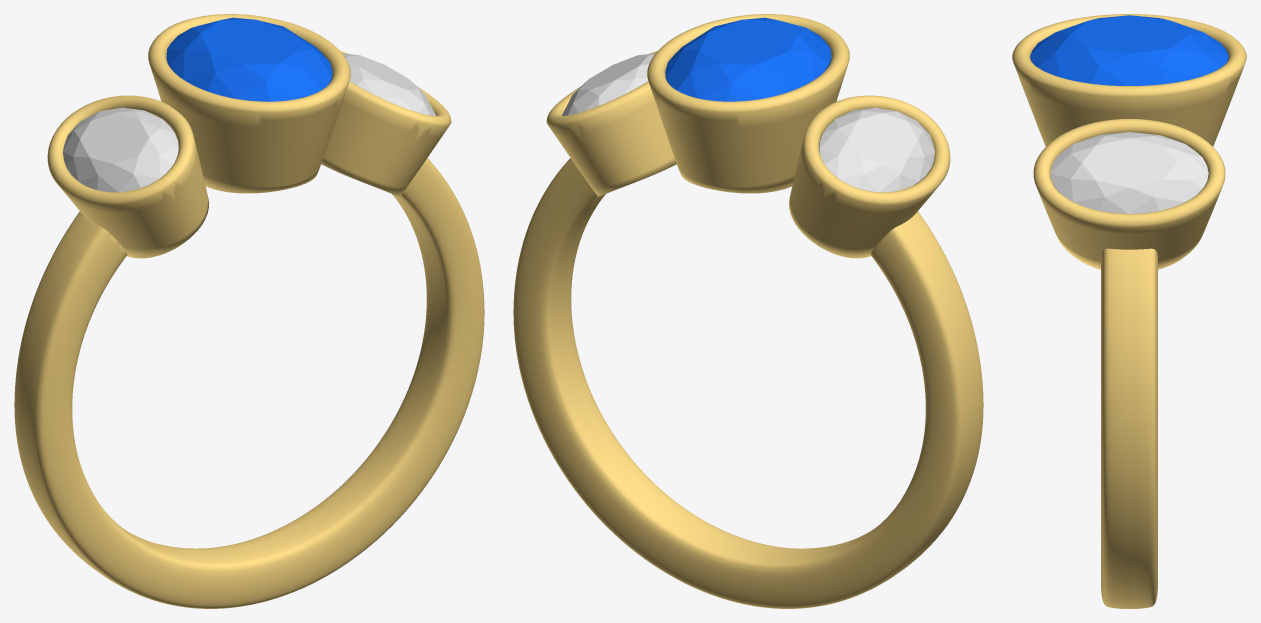
File: bluesapphire-oval-yellowgold-bezelset-straightband-3stone.glb
3 views of the same model, side by side, from view 1: azimuth 30°, elevation 25°; view 2: azimuth 150°, elevation 25°; view 3: azimuth 270°, elevation 25° (orthographic).
Visible parts, largest first — view 1: metal, stone.002, side.004, side.005; view 2: metal, stone.002, side.004, side.005; view 3: metal, stone.002, side.005.
Part boxes in pixels (left/top/right/bottom): metal: left=14, top=14, right=484, bottom=608; stone.002: left=166, top=17, right=332, bottom=101; side.004: left=63, top=107, right=178, bottom=192; side.005: left=342, top=53, right=435, bottom=115; metal: left=513, top=14, right=983, bottom=608; stone.002: left=665, top=17, right=831, bottom=101; side.004: left=819, top=107, right=934, bottom=192; side.005: left=562, top=53, right=655, bottom=115; metal: left=1012, top=14, right=1246, bottom=608; stone.002: left=1030, top=15, right=1228, bottom=85; side.005: left=1050, top=132, right=1208, bottom=213.
Size of the model in its own units: 19.93 by 23.41 by 9.04.
